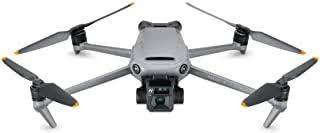drone: (12, 0, 311, 133)
